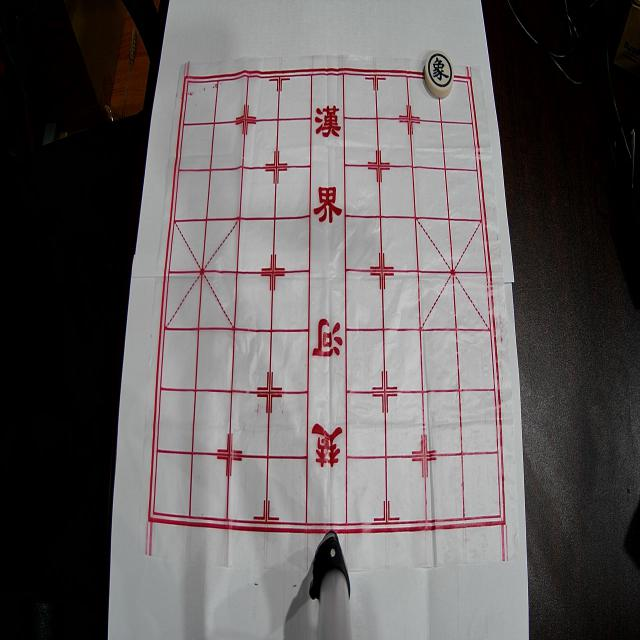black-elephant: (424, 51, 454, 98)
